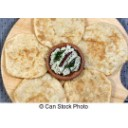poori: (82, 19, 125, 74), (5, 36, 47, 78), (15, 74, 66, 102), (33, 17, 85, 44), (65, 74, 110, 102)
